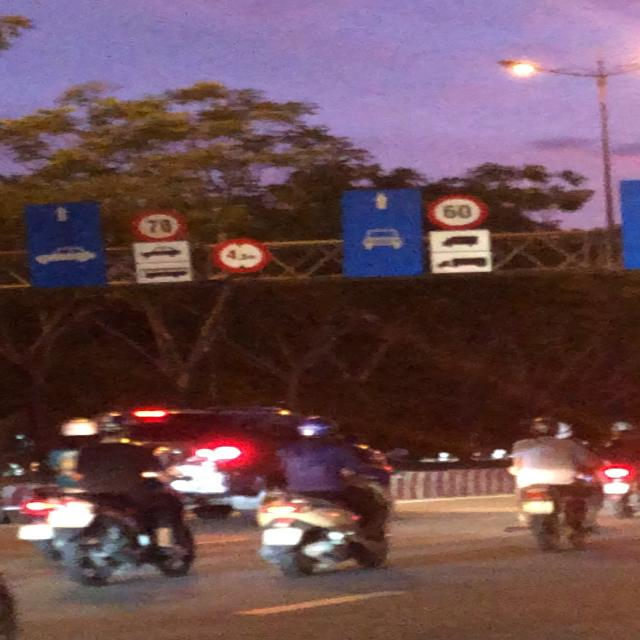Bien bao han che chieu cao: (211, 238, 277, 277)
Bien bao toc do toi da cho phep: (420, 192, 497, 234), (128, 208, 188, 246)
